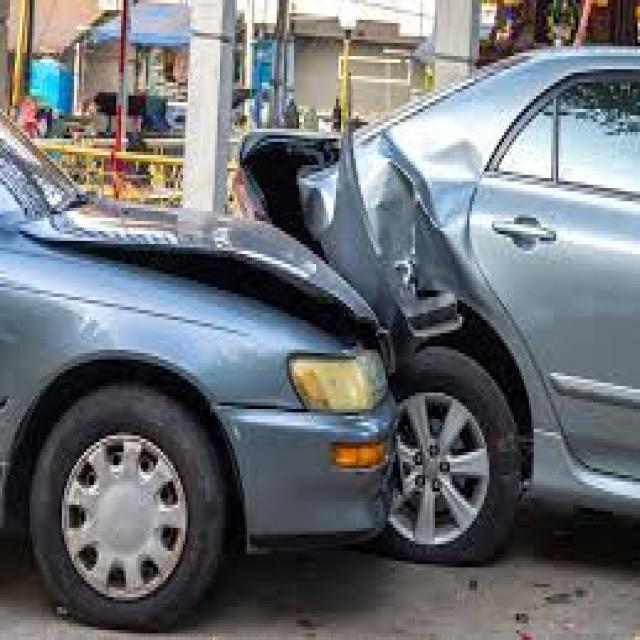accident: (0, 23, 633, 637)
